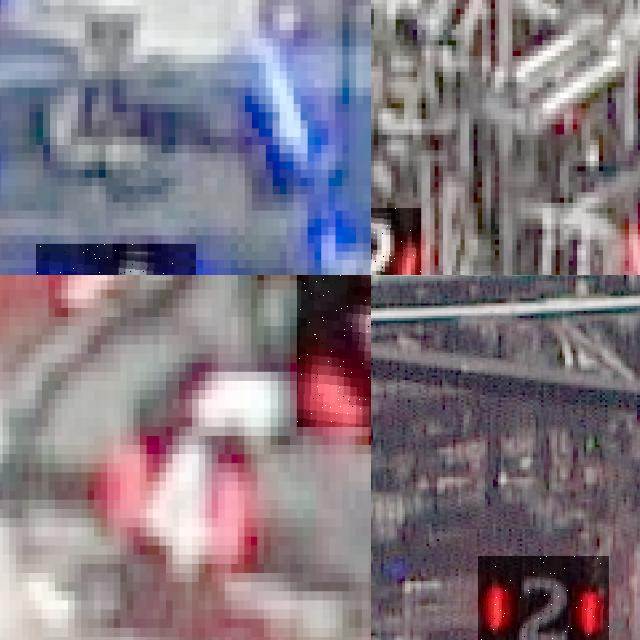B4: (36, 243, 196, 275)
R2: (478, 556, 608, 640), (371, 208, 421, 275)
R4: (101, 418, 251, 554), (296, 275, 371, 427)
